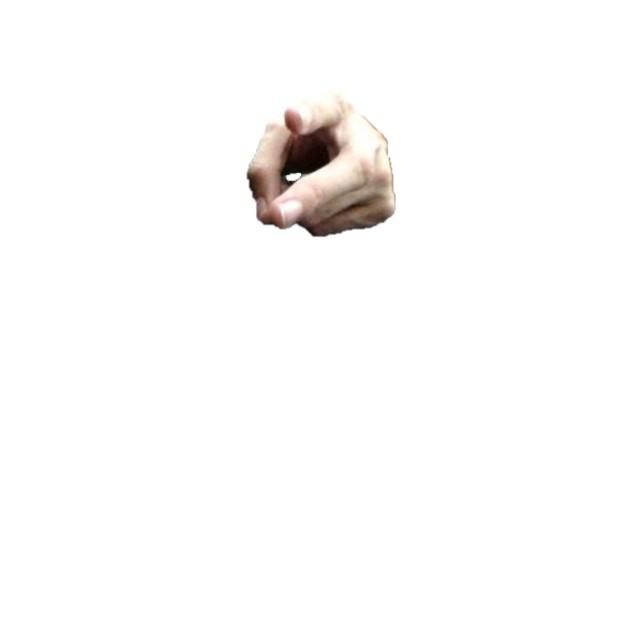tyoki: (245, 89, 398, 238)
